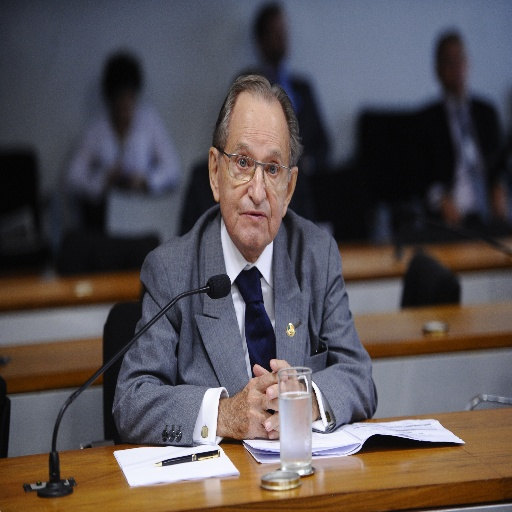hand: (251, 357, 306, 441)
